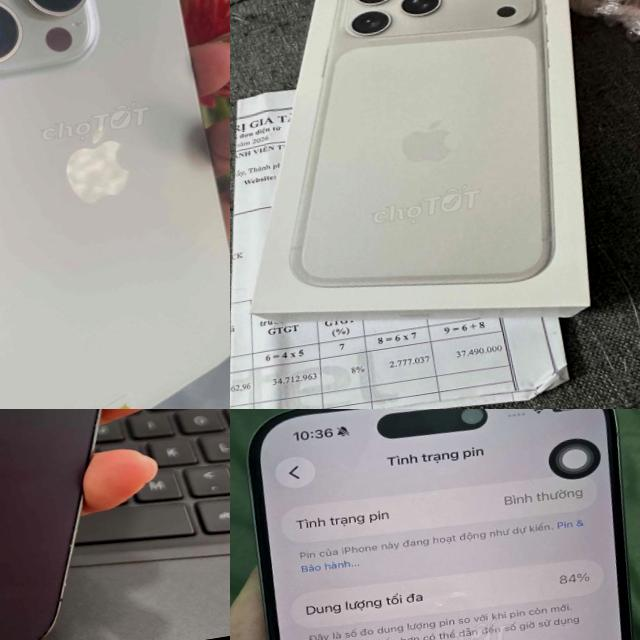gen_14: (0, 409, 230, 640)
gen_15: (230, 409, 640, 640), (0, 0, 230, 409)
gen_17: (246, 0, 588, 315)
